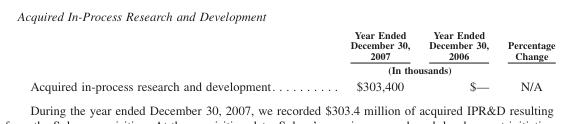table: (29, 28, 554, 92)
table column: (29, 28, 312, 92), (312, 28, 418, 92), (418, 28, 497, 92), (497, 28, 554, 92)
table column header: (29, 28, 554, 76)
table row: (29, 28, 554, 61), (29, 76, 554, 92), (29, 61, 554, 76)
table spanning cell: (312, 61, 497, 76), (497, 28, 554, 76)
